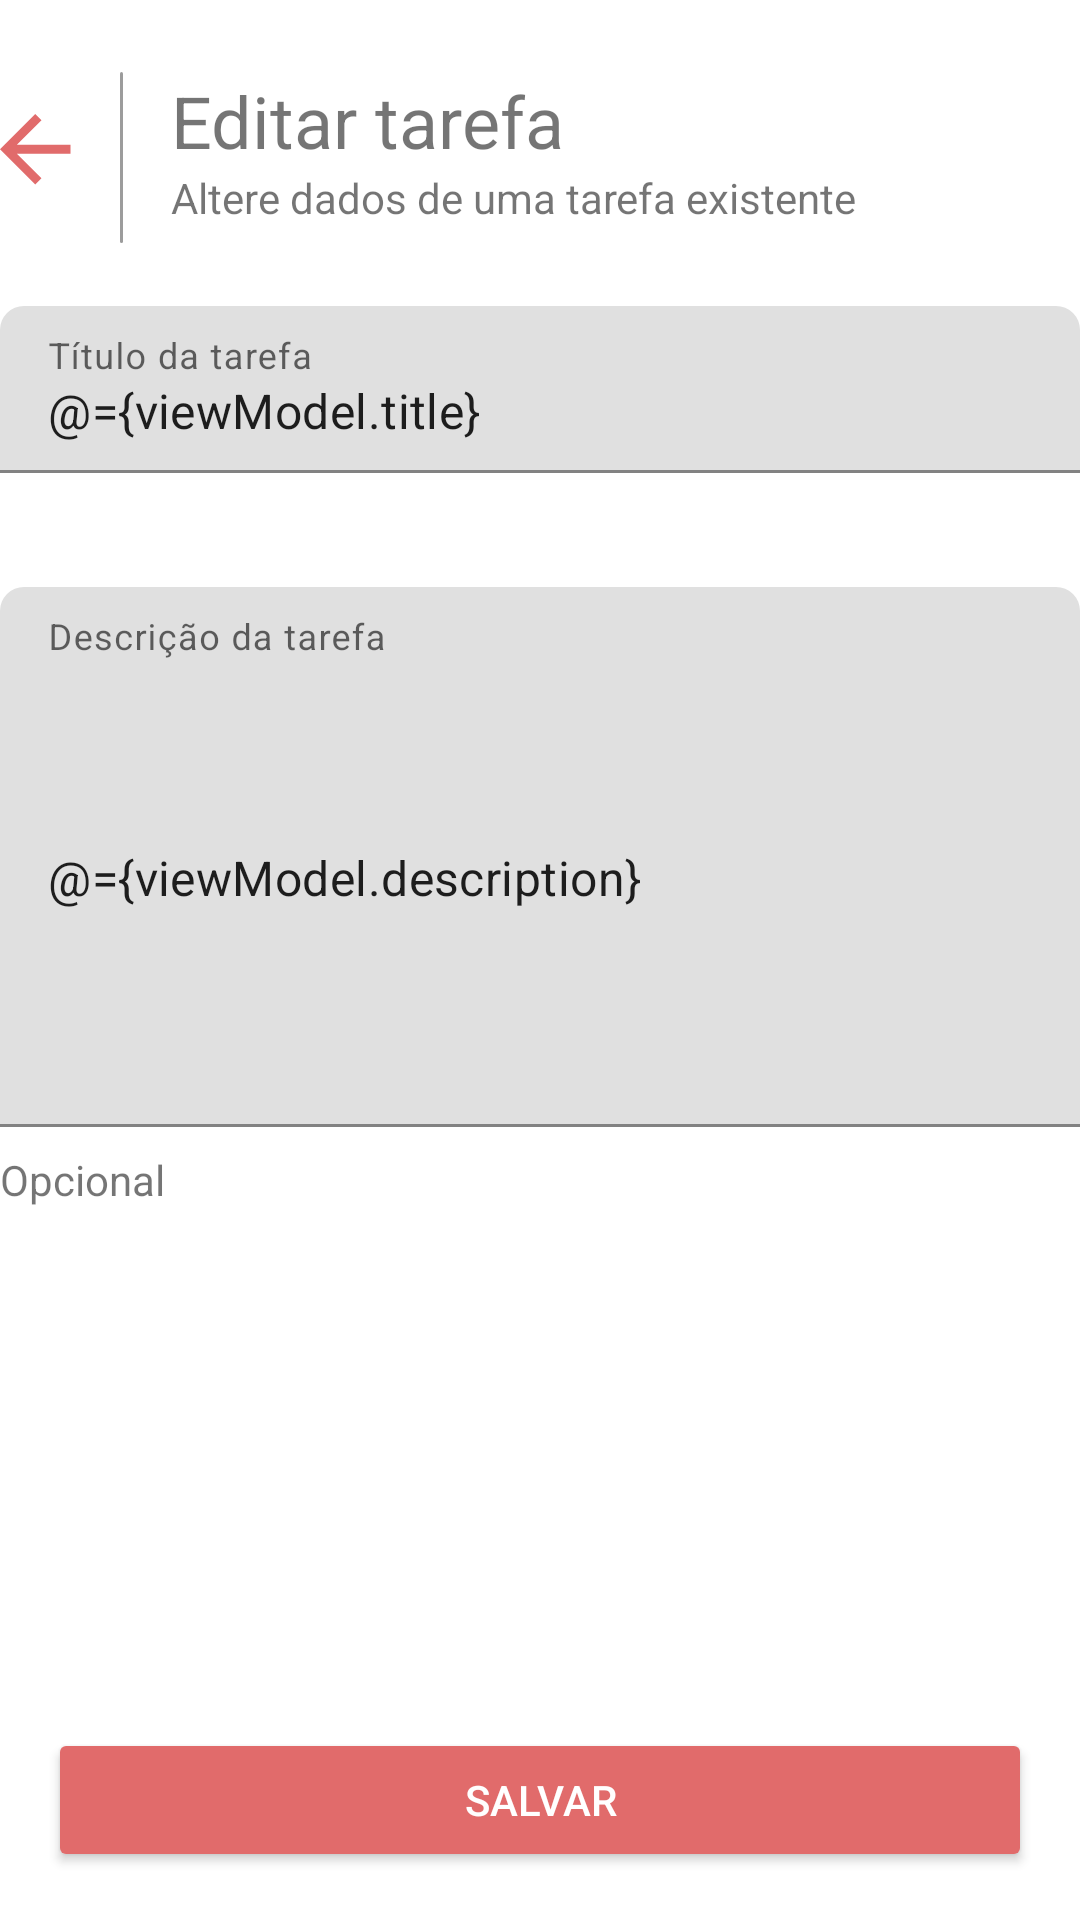

Where to tap for icons on this 1080×1920 app screen, as [x,y]:
icone retorno da pagina: [35,149]
